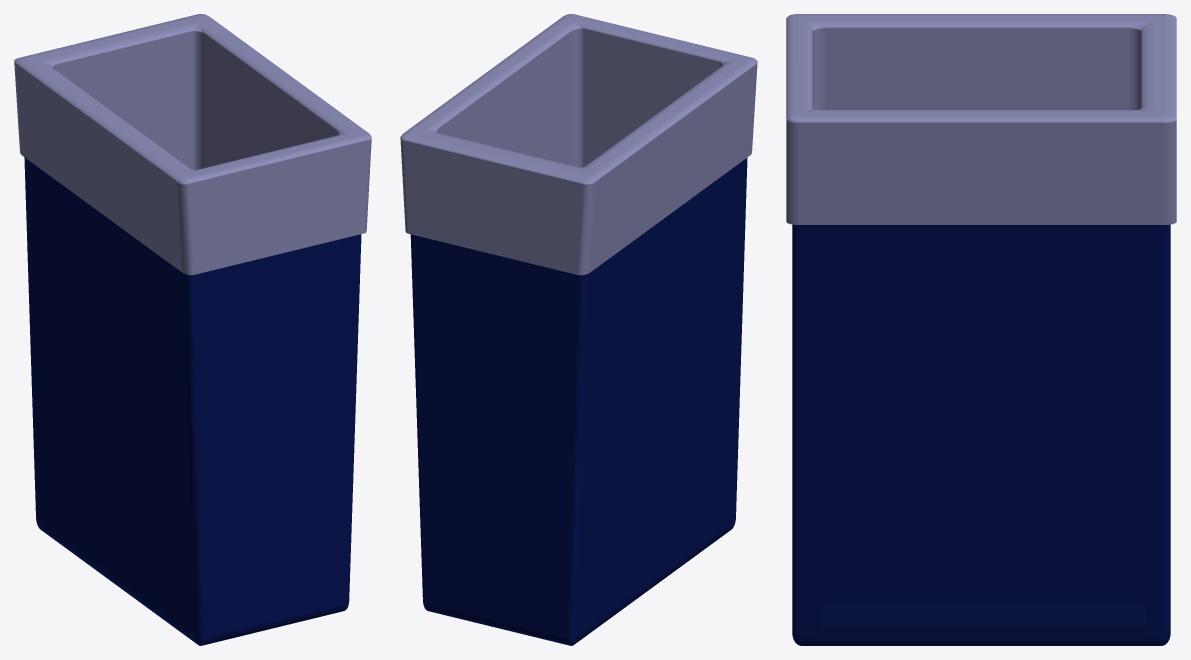
Rendered from recyclecanER.fbx.
3 views of the same model, side by side, from view 1: azimuth 30°, elevation 25°; view 2: azimuth 150°, elevation 25°; view 3: azimuth 270°, elevation 25° (orthographic). The views are drawn at different scales.
Visible parts, largest first — view 1: Cube, Cube.001; view 2: Cube, Cube.001; view 3: Cube, Cube.001.
Part boxes in pixels (box(x1,y1,x2,y2)): Cube: box(24, 157, 361, 645); Cube.001: box(14, 14, 371, 275); Cube: box(410, 158, 747, 645); Cube.001: box(400, 14, 757, 275); Cube: box(792, 224, 1170, 645); Cube.001: box(786, 14, 1176, 224).
Bounding box in the file's own units: 135 × 315 × 206.
